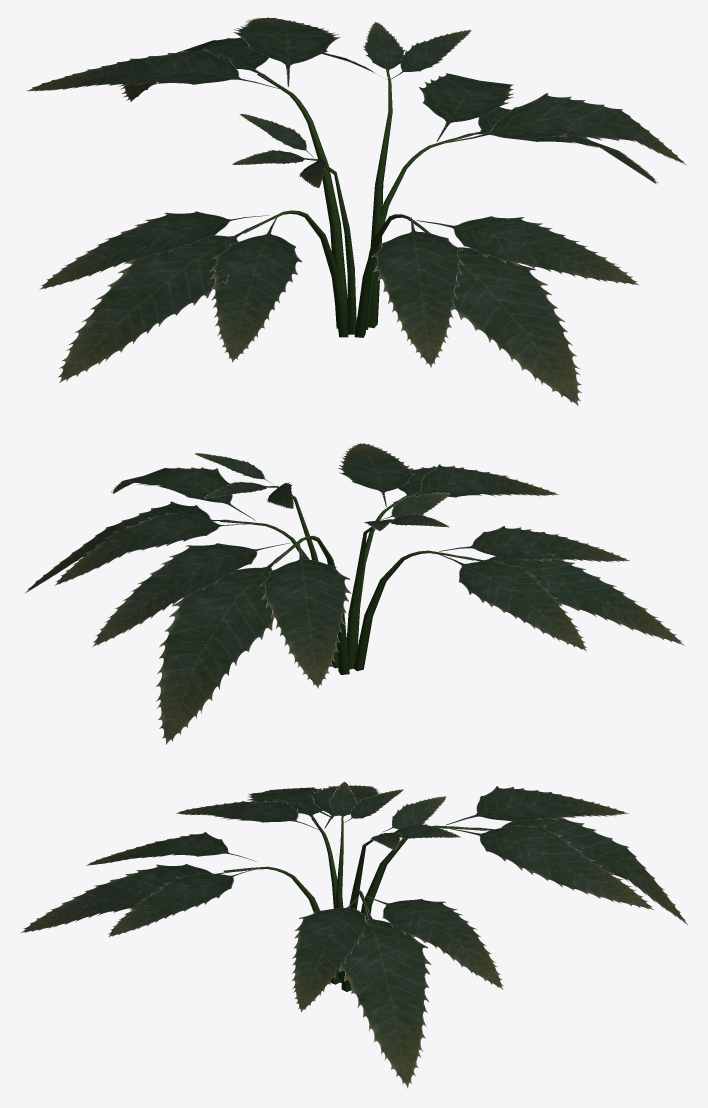
The model's file is Grass2.fbx.
3 renders of one model, top to bottom at view 1: azimuth 30°, elevation 25°; view 2: azimuth 150°, elevation 25°; view 3: azimuth 270°, elevation 25°, orthographic. The views are drawn at different scales.
Visible parts, largest first — view 1: Grass2; view 2: Grass2; view 3: Grass2.
Boxes of the visible parts, left/top/right/bottom form: Grass2: left=26, top=17, right=687, bottom=406; Grass2: left=24, top=443, right=684, bottom=744; Grass2: left=21, top=781, right=688, bottom=1088.
Bounding box in the file's own units: 0.5513 × 0.1804 × 0.5835.
